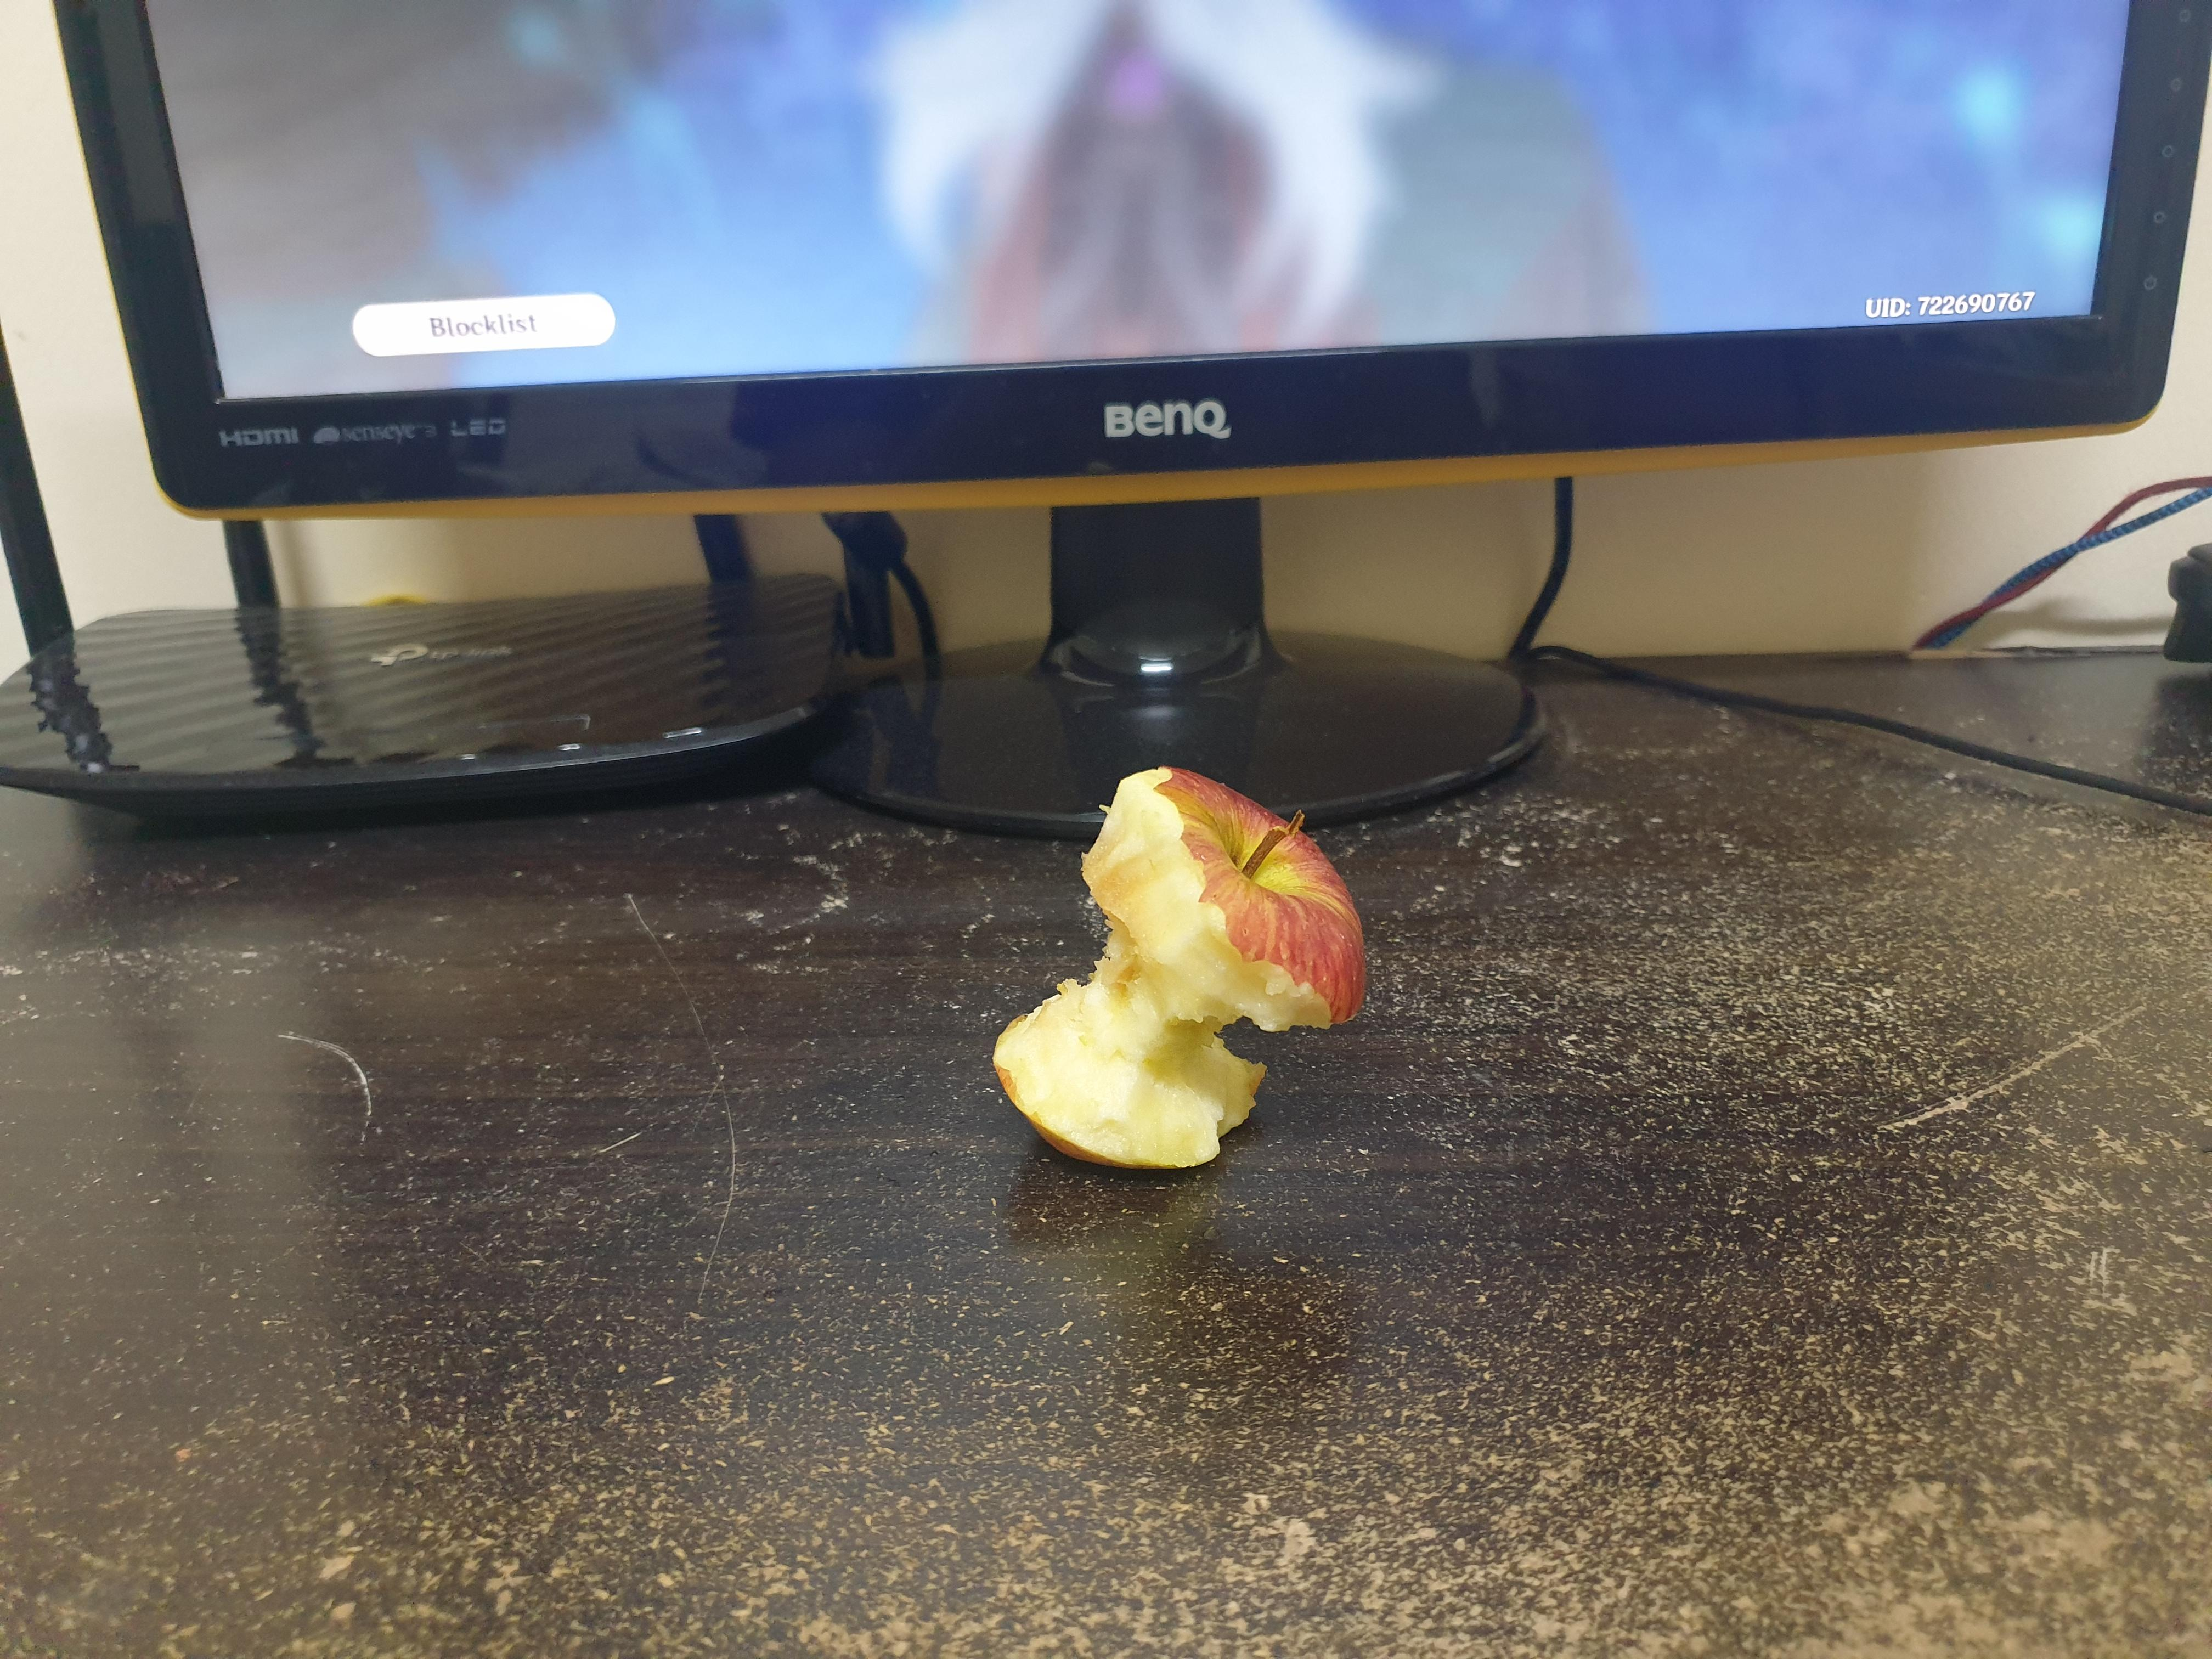Apple: (967, 746, 1411, 1187)
